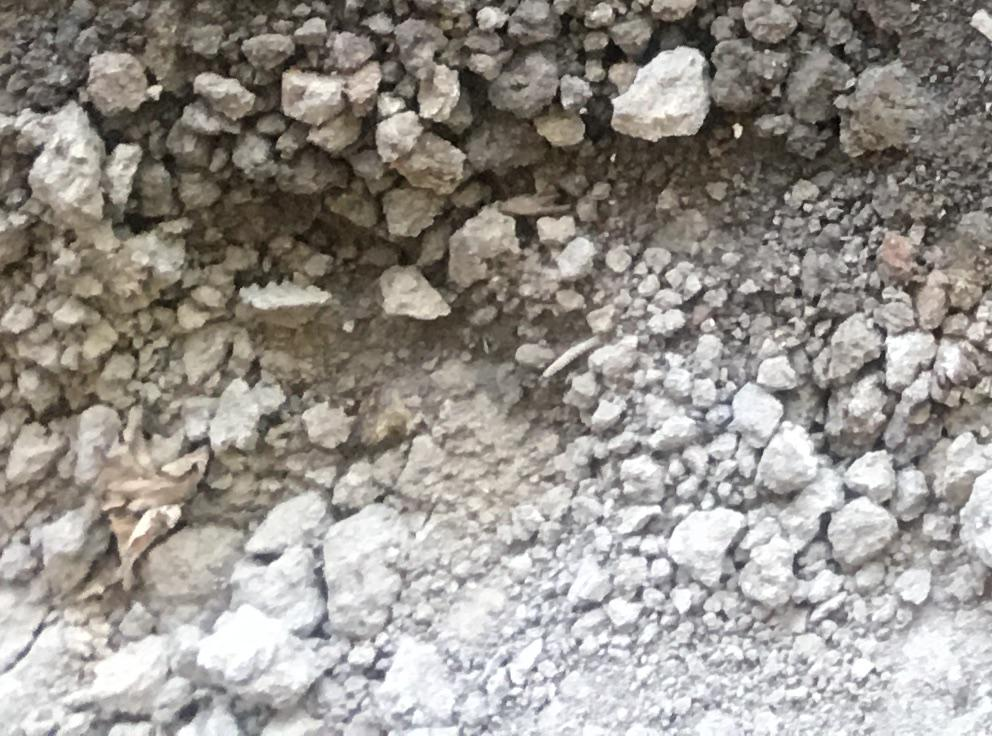block: (185, 605, 319, 709), (29, 105, 111, 227), (608, 44, 710, 142)
